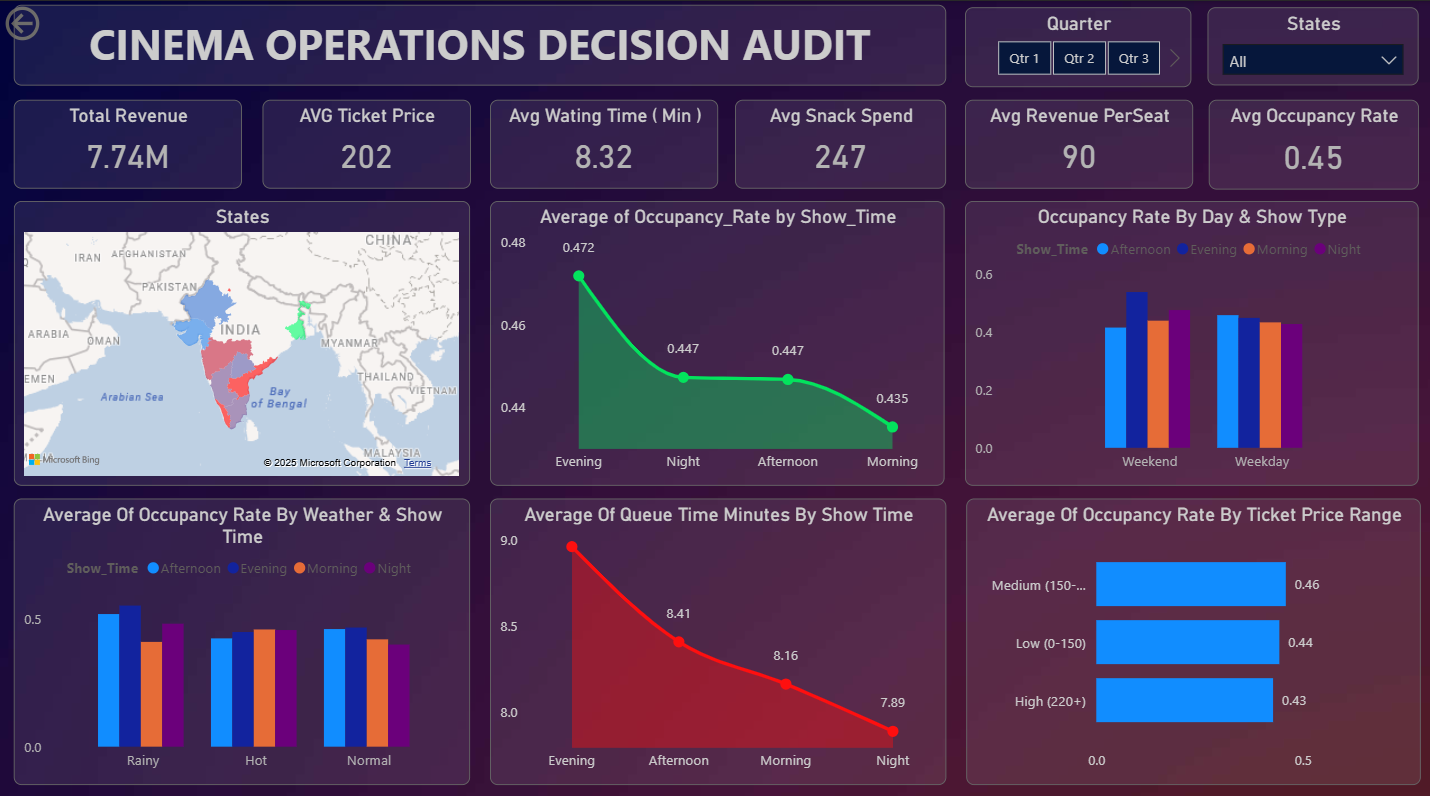

The page's visual inventory and layout, read from the dashboard file:
{"tool":"powerbi","page":{"name":"Page 1","canvas":[1280,720],"ordinal":0},"visuals":[{"type":"lineClusteredColumnComboChart","title":"Occupancy Rate By Day & Show Type","fields":{"Category":["Cinema operations decision audit.Day_Type"],"Y":["Avg(Cinema operations decision audit.Occupancy_Rate)"],"Series":["Cinema operations decision audit.Show_Time"]},"box":[436.2,443.8,407.5,262.5],"z":0},{"type":"columnChart","title":"Average Of Occupancy Rate By Ticket Price Range","fields":{"Category":["Cinema operations decision audit.Ticket_Price_Range"],"Y":["Avg(Cinema operations decision audit.Occupancy_Rate)"]},"box":[858.8,191.2,405,243.8],"z":1000},{"type":"slicer","title":"States","fields":{"Values":["Cinema operations decision audit.State"]},"box":[1076.2,5,187.5,85],"z":2000},{"type":"card","title":"Total Revenue","fields":{"Values":["Sum(Cinema operations decision audit.Total_Revenue)"]},"box":[12.5,98.8,202.5,80],"z":3000},{"type":"card","title":"AVG Ticket Price","fields":{"Values":["Avg(Cinema operations decision audit.Ticket_Price_INR)"]},"box":[233.8,98.8,185,80],"z":4000},{"type":"card","title":"Avg Wating Time ( Min )","fields":{"Values":["Avg(Cinema operations decision audit.Queue_Time_Minutes)"]},"box":[438.8,98.8,203.8,80],"z":5000},{"type":"card","title":"Avg Snack Spend","fields":{"Values":["Cinema operations decision audit.Avg Snack Revenue per Booking"]},"box":[656.2,98.8,187.5,80],"z":6000},{"type":"card","title":"Avg Revenue PerSeat","fields":{"Values":["Avg(Cinema operations decision audit.Revenue_per_Seat)"]},"box":[858.8,98.8,203.8,80],"z":7000},{"type":"actionButton","box":[0,0,100,40],"z":8000},{"type":"textbox","box":[12.5,5,828.8,85],"z":9000},{"type":"card","title":"Avg Occupancy Rate","fields":{"Values":["Cinema operations decision audit.Occupancy Rate %"]},"box":[1078.8,98.8,187.5,80],"z":10000},{"type":"columnChart","title":"Average of Occupancy Rate By Show Time","fields":{"Category":["Cinema operations decision audit.Show_Time"],"Y":["Avg(Cinema operations decision audit.Occupancy_Rate)"]},"box":[12.5,443.8,406.2,261.2],"z":11000},{"type":"lineClusteredColumnComboChart","title":" Occupancy Rate By Weather & Show Time","fields":{"Category":["Cinema operations decision audit.Weather"],"Y":["Avg(Cinema operations decision audit.Occupancy_Rate)"],"Series":["Cinema operations decision audit.Show_Time"]},"box":[858.8,443.8,407.5,262.5],"z":12000},{"type":"pieChart","title":" Booking Type","fields":{"Category":["Cinema operations decision audit.Booking Type"],"Y":["CountNonNull(Cinema operations decision audit.Booking Type)"]},"box":[12.5,191.2,407.5,243.8],"z":13000},{"type":"donutChart","title":"Occupancy Rate By Movie Genre","fields":{"Category":["Cinema operations decision audit.Movie_Genre"],"Y":["Sum(Cinema operations decision audit.Occupancy_Rate)"]},"box":[436.2,191.2,405,243.8],"z":14000},{"type":"treemap","title":"Occupancy","fields":{"Group":["Cinema operations decision audit.Customer_Type"],"Values":["Avg(Cinema operations decision audit.Occupancy_Rate)"]},"box":[858.8,3.8,203.8,86.2],"z":15000}]}

Visuals, with their boxes in screenshot pixels (x1, y1, x2, y2), scaled from the page's 1280x720 canvas onto the 1430x796 screenshot:
"Occupancy Rate By Day & Show Type" lineClusteredColumnComboChart: pyautogui.locateOnScreen(487, 491, 943, 781)
"Average Of Occupancy Rate By Ticket Price Range" columnChart: pyautogui.locateOnScreen(959, 211, 1412, 481)
"States" slicer: pyautogui.locateOnScreen(1202, 6, 1412, 100)
"Total Revenue" card: pyautogui.locateOnScreen(14, 109, 240, 198)
"AVG Ticket Price" card: pyautogui.locateOnScreen(261, 109, 468, 198)
"Avg Wating Time ( Min )" card: pyautogui.locateOnScreen(490, 109, 718, 198)
"Avg Snack Spend" card: pyautogui.locateOnScreen(733, 109, 943, 198)
"Avg Revenue PerSeat" card: pyautogui.locateOnScreen(959, 109, 1187, 198)
actionButton: pyautogui.locateOnScreen(0, 0, 112, 44)
textbox: pyautogui.locateOnScreen(14, 6, 940, 100)
"Avg Occupancy Rate" card: pyautogui.locateOnScreen(1205, 109, 1415, 198)
"Average of Occupancy Rate By Show Time" columnChart: pyautogui.locateOnScreen(14, 491, 468, 779)
" Occupancy Rate By Weather & Show Time" lineClusteredColumnComboChart: pyautogui.locateOnScreen(959, 491, 1415, 781)
" Booking Type" pieChart: pyautogui.locateOnScreen(14, 211, 469, 481)
"Occupancy Rate By Movie Genre" donutChart: pyautogui.locateOnScreen(487, 211, 940, 481)
"Occupancy" treemap: pyautogui.locateOnScreen(959, 4, 1187, 100)
